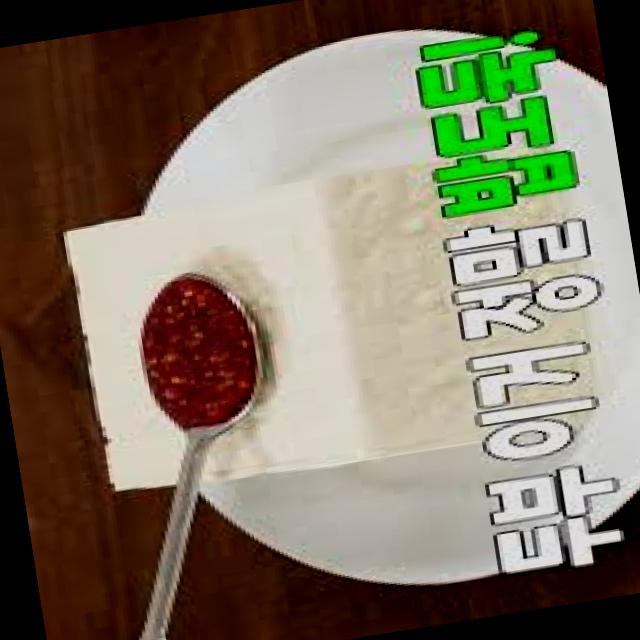tof: (53, 120, 640, 511)
